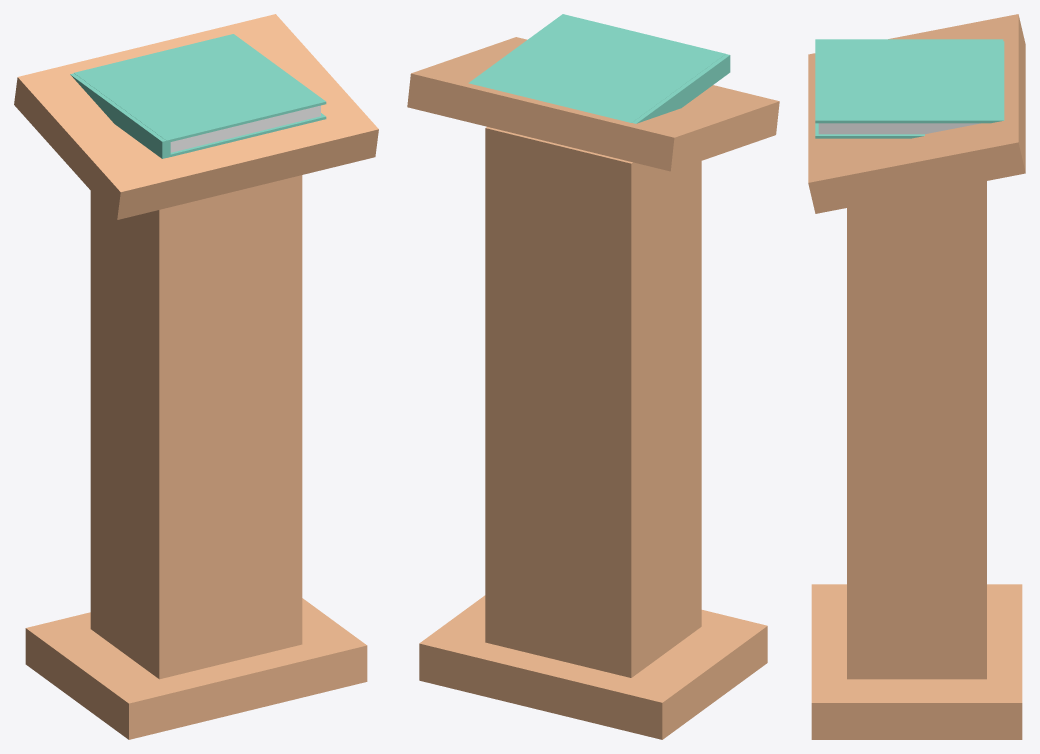
3 views of the same model, side by side, from view 1: azimuth 30°, elevation 25°; view 2: azimuth 150°, elevation 25°; view 3: azimuth 270°, elevation 25° (orthographic). The views are drawn at different scales.
Parts seen in each view (by area): view 1: Body, Reading top, Foot, Cover.001, Spine, Pages, Cover; view 2: Body, Foot, Reading top, Cover.001, Spine; view 3: Body, Foot, Reading top, Cover.001, Pages, Cover, Spine.
Part boxes in pixels (x1=…): Body: x1=90, y1=175, x2=302, y2=679; Reading top: x1=14, y1=14, x2=378, y2=219; Foot: x1=25, y1=598, x2=367, y2=739; Cover.001: x1=74, y1=34, x2=326, y2=142; Spine: x1=70, y1=73, x2=170, y2=158; Pages: x1=170, y1=105, x2=320, y2=152; Cover: x1=166, y1=113, x2=326, y2=157; Body: x1=485, y1=127, x2=701, y2=677; Foot: x1=419, y1=595, x2=767, y2=739; Reading top: x1=407, y1=37, x2=779, y2=171; Cover.001: x1=468, y1=14, x2=725, y2=122; Spine: x1=632, y1=54, x2=730, y2=123; Body: x1=847, y1=181, x2=986, y2=679; Foot: x1=811, y1=584, x2=1022, y2=739; Reading top: x1=808, y1=14, x2=1025, y2=213; Cover.001: x1=815, y1=41, x2=1004, y2=123; Pages: x1=818, y1=123, x2=980, y2=134; Cover: x1=815, y1=123, x2=924, y2=138; Spine: x1=815, y1=39, x2=1003, y2=41.
Bounding box in the file's own units: 0.52 × 1.14 × 0.3724.
1 material, 1 textured.
